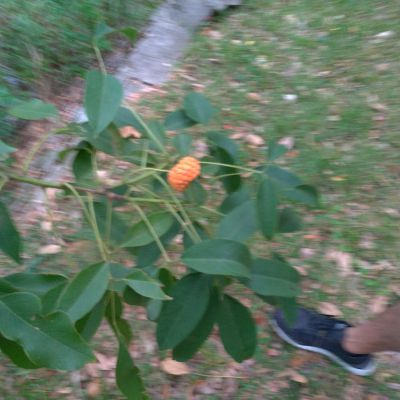eggs: (162, 150, 206, 192)
